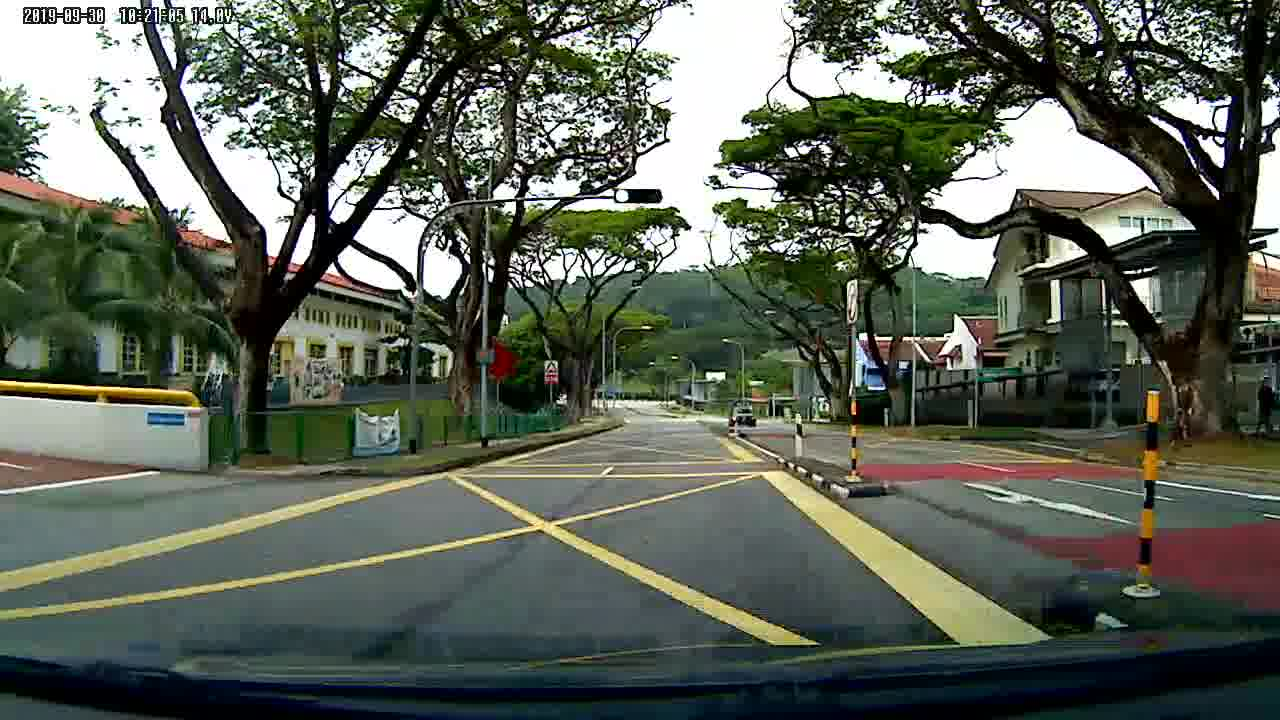car: (726, 401, 760, 430)
